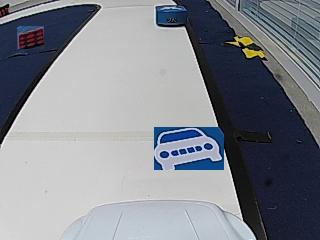prop: (156, 6, 187, 27)
